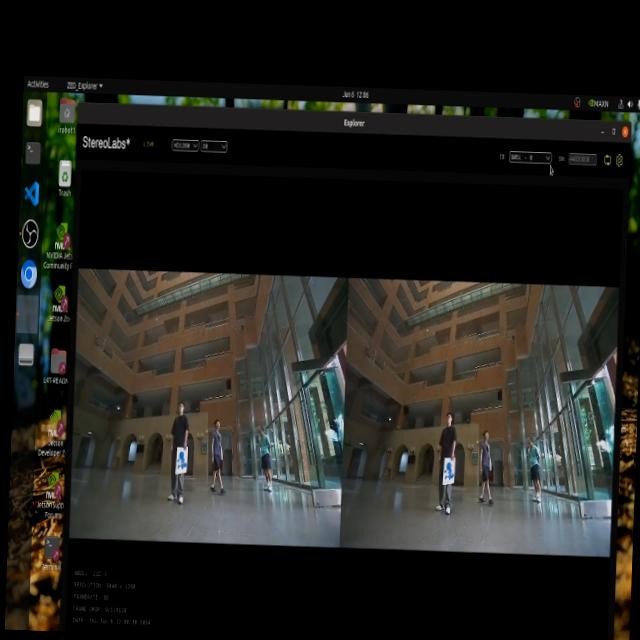blue: (438, 460, 452, 486), (174, 446, 190, 468)
